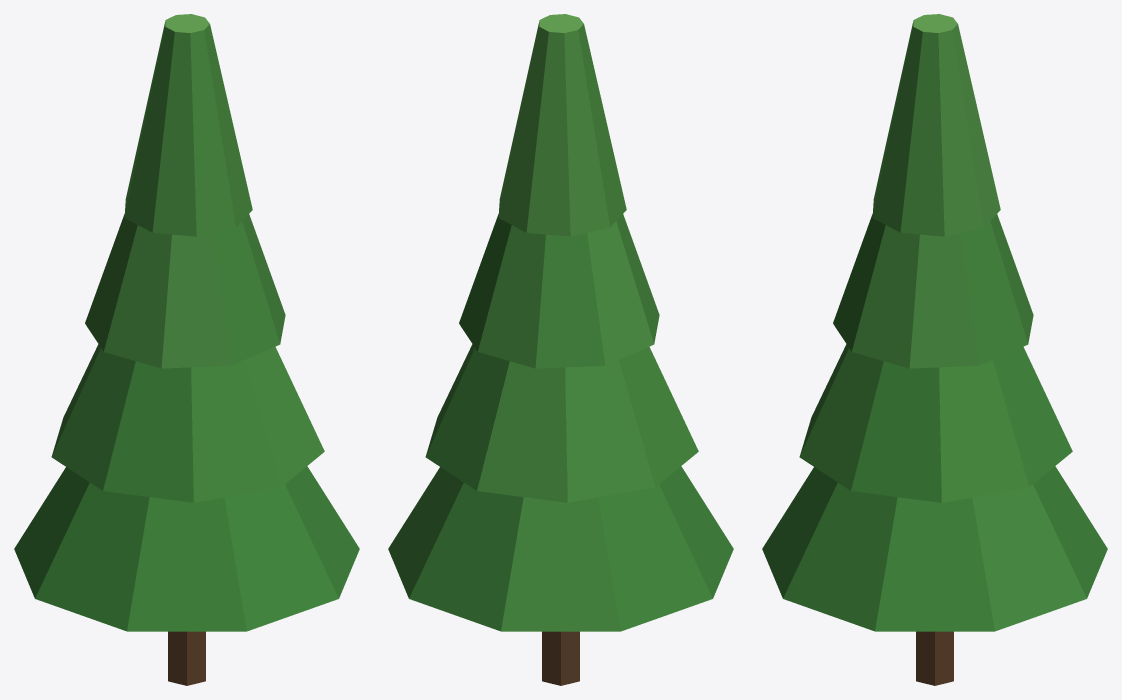
File: ConeTree_1.glb
The picture shows the model from 3 angles, left to right: view 1: azimuth 30°, elevation 25°; view 2: azimuth 150°, elevation 25°; view 3: azimuth 270°, elevation 25°; orthographic projection.
Visible parts, largest first — view 1: ConeTree_1; view 2: ConeTree_1; view 3: ConeTree_1.
Part boxes in pixels (<box>): ConeTree_1: <box>14,14,359,685</box>; ConeTree_1: <box>388,14,733,685</box>; ConeTree_1: <box>762,14,1107,685</box>.
Size of the model in its own units: 6.98 by 14.78 by 7.09.
Materials: 1 (1 with a texture image).
